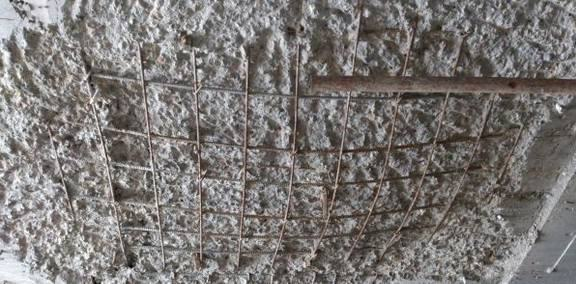Exposed reinforcement: (379, 34, 467, 261), (342, 16, 419, 262), (59, 120, 524, 155), (58, 151, 484, 189), (312, 3, 364, 260), (79, 60, 130, 269), (427, 101, 493, 244), (88, 197, 447, 222), (133, 38, 166, 271), (270, 43, 300, 268), (120, 224, 424, 241), (234, 55, 250, 271), (46, 121, 78, 226), (125, 242, 312, 257), (192, 49, 204, 261), (497, 115, 529, 181)
Spalling: (1, 1, 576, 284)
